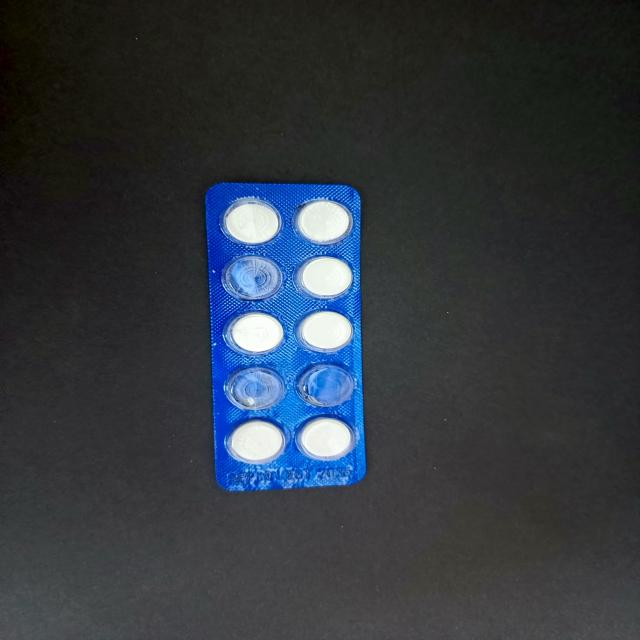defect: (218, 252, 287, 304), (223, 363, 290, 413), (293, 359, 358, 410)
